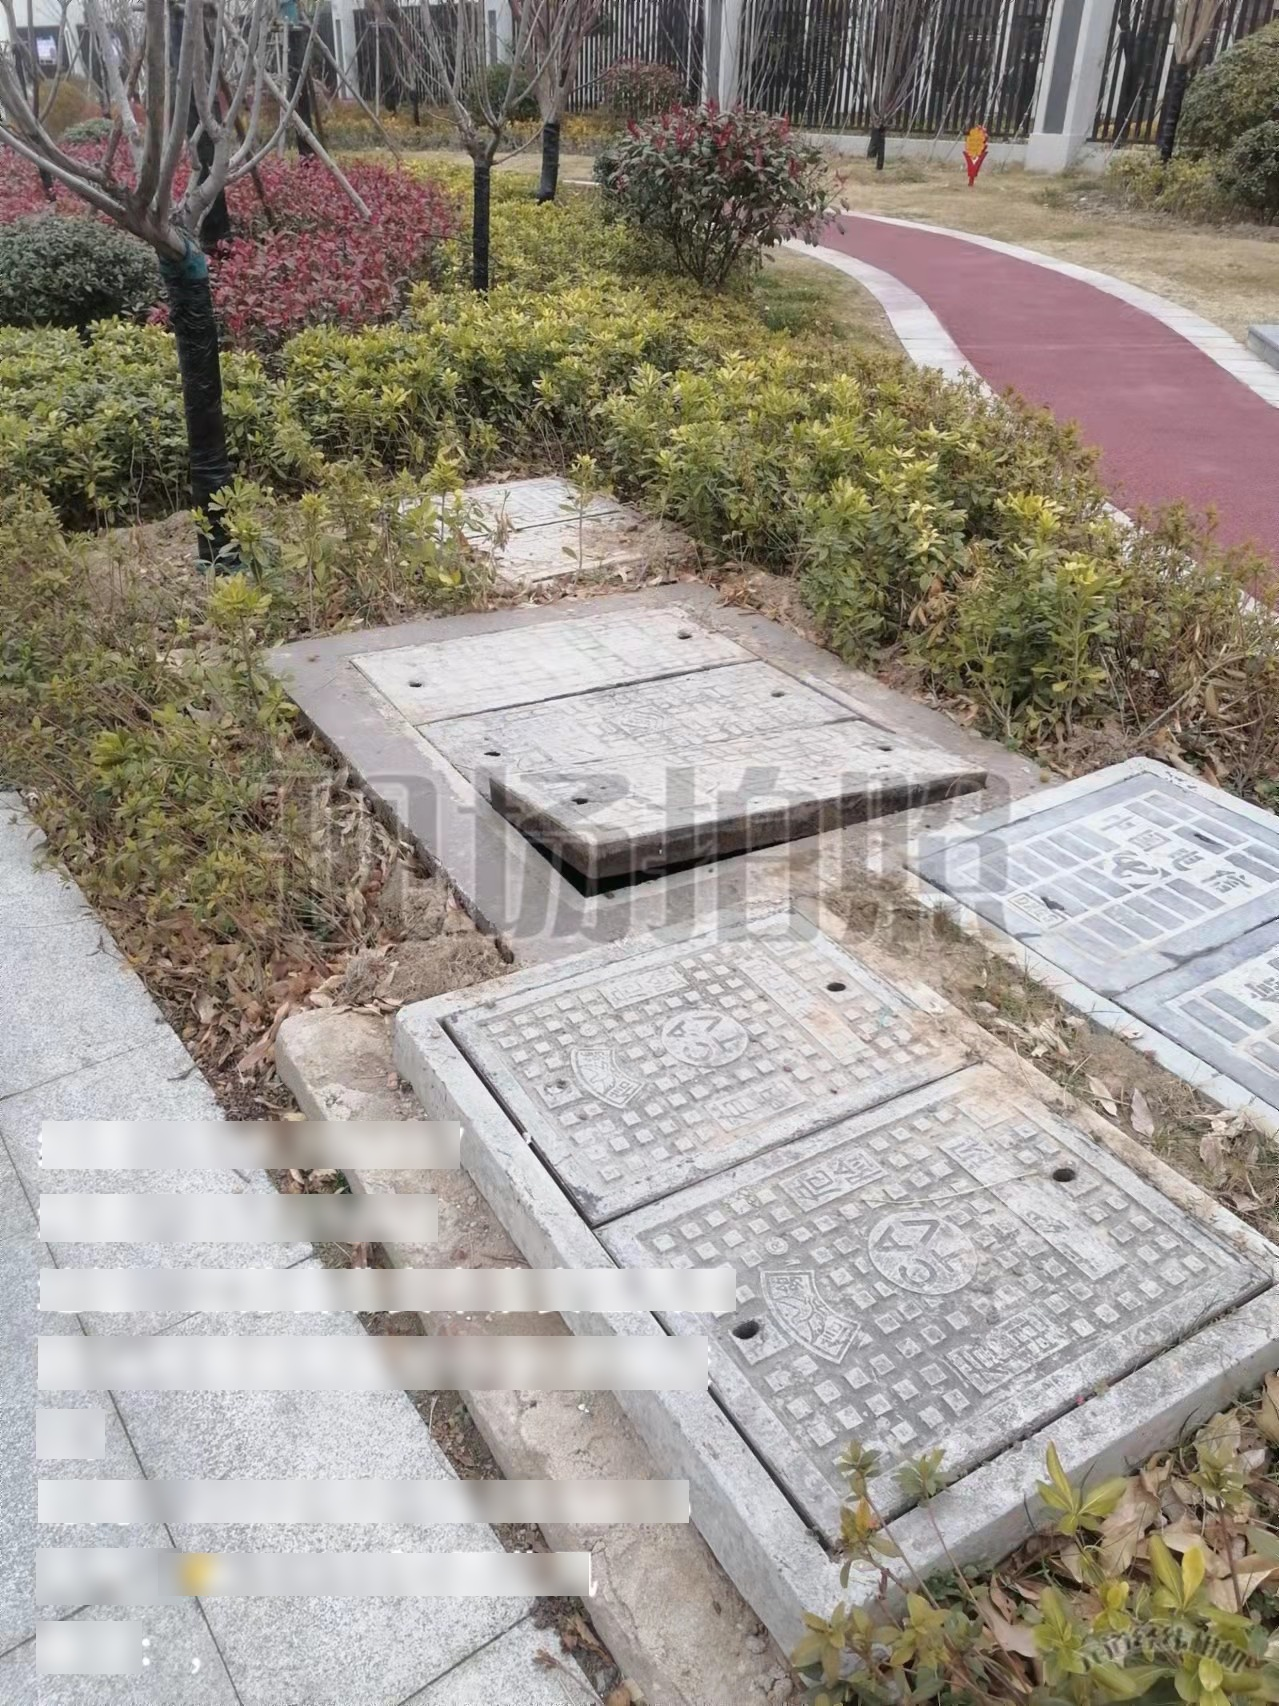good: (391, 883, 1279, 1659), (871, 756, 1279, 1143)
uncovered: (339, 594, 1002, 913)
